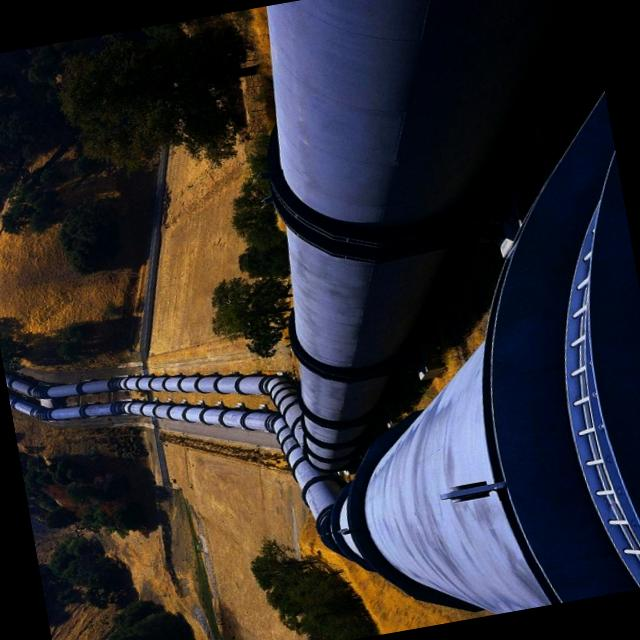gas: (334, 153, 640, 629), (217, 0, 608, 187), (262, 148, 513, 326), (277, 309, 432, 418), (297, 469, 409, 607), (130, 352, 272, 418), (290, 402, 376, 470), (180, 392, 278, 446), (261, 366, 305, 456), (268, 417, 312, 506), (48, 392, 133, 432), (51, 371, 132, 405), (125, 391, 187, 431), (11, 394, 49, 429), (11, 371, 51, 403)
